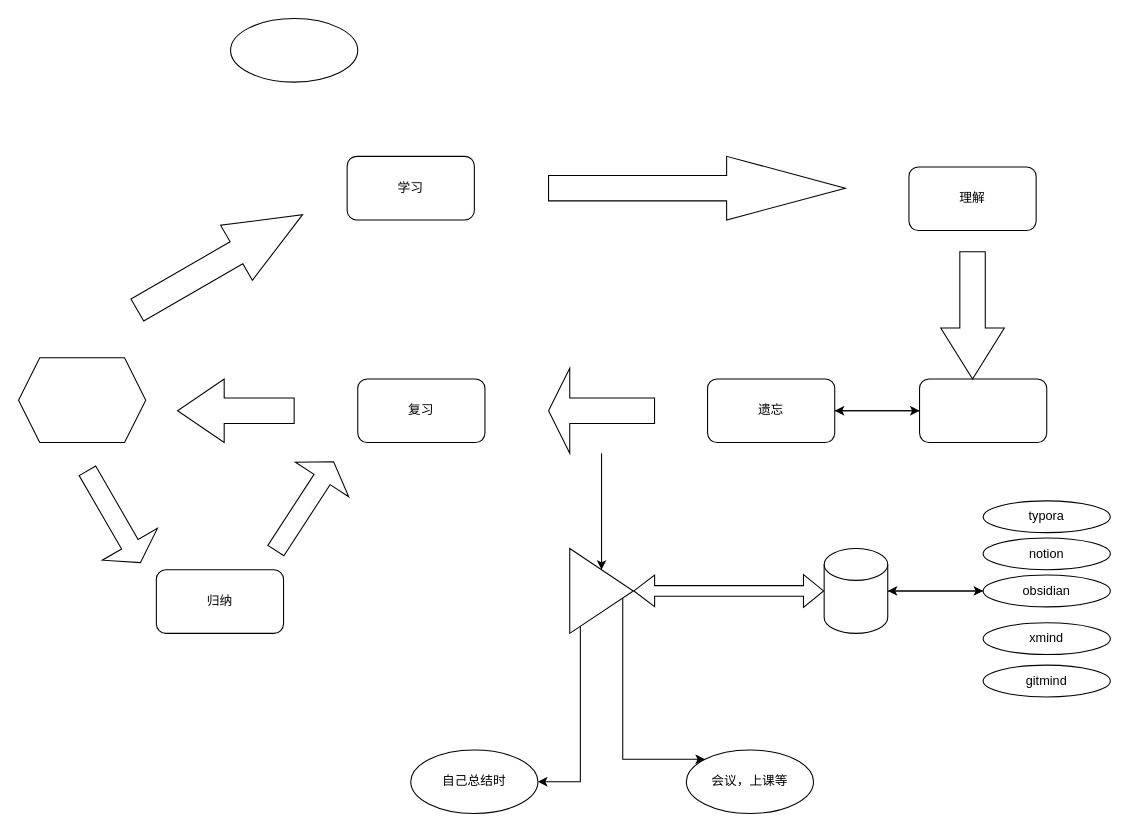
Image size: 1129x832. Some labels were removed from this diagram. The shapes that lost their labels are listed below. From the top down, each one's box as (x1, y1, x2, y2) in pixels, then its label:
(229, 17, 358, 82): 技术
(17, 357, 146, 443): 应用
(918, 378, 1047, 443): 记忆
(569, 547, 633, 633): 笔记
(823, 547, 888, 633): 笔记存储
